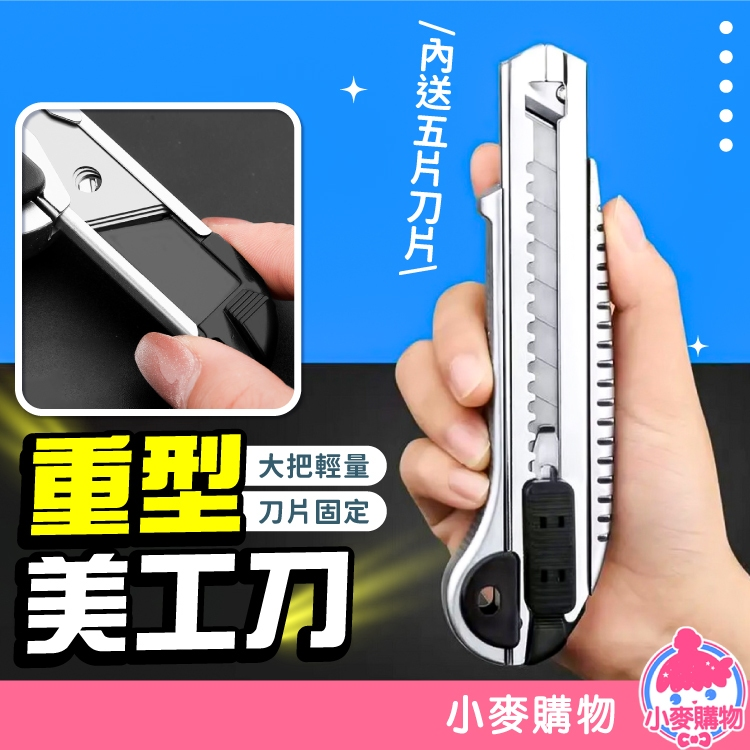cutter: (442, 43, 617, 668), (26, 105, 294, 406)
